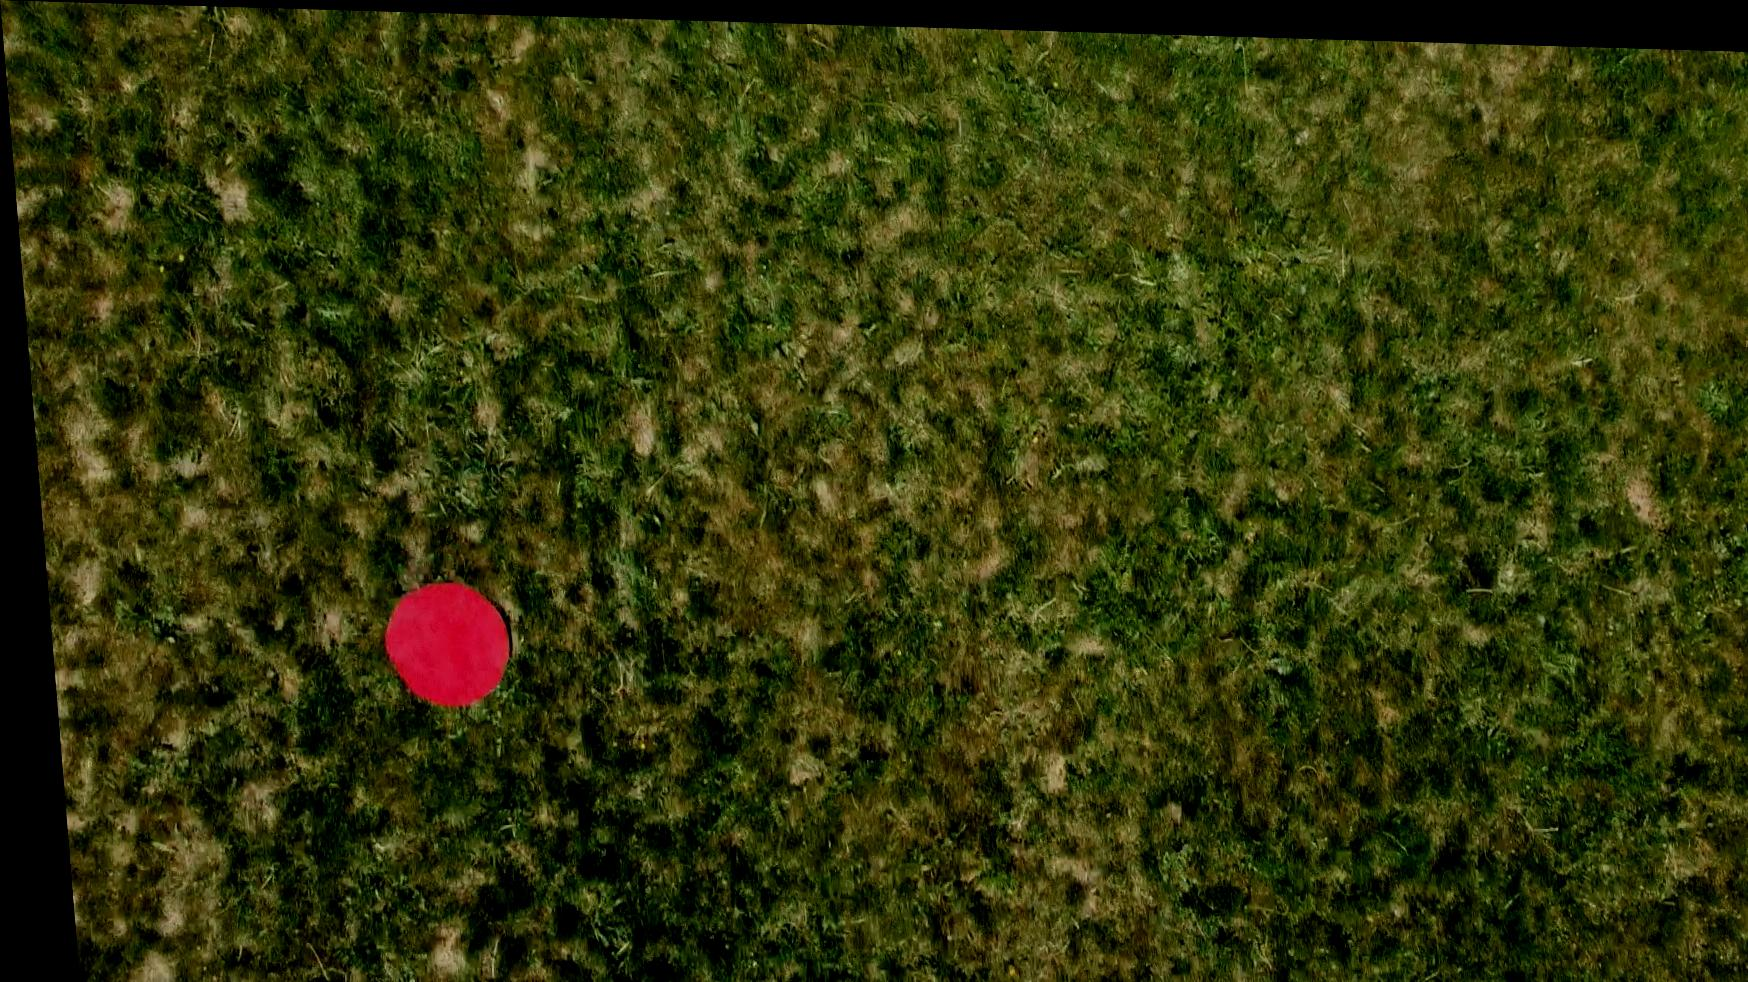Red: (364, 575, 509, 708)
